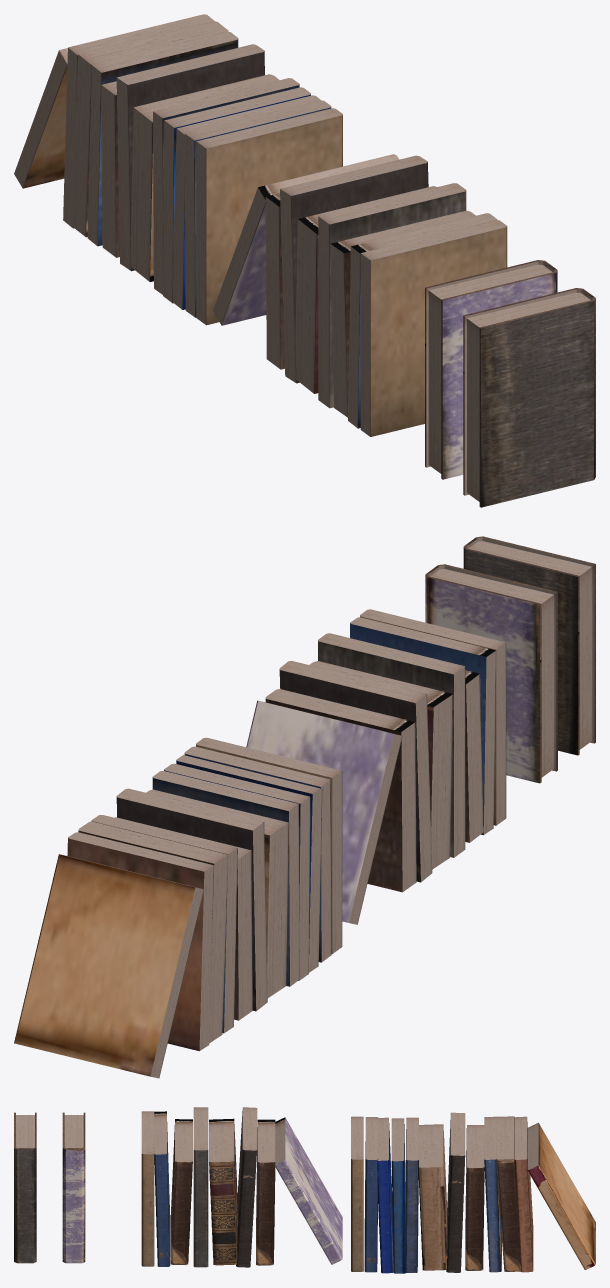
Rendered from books.fbx.
3 views of the same model, one above another, from view 1: azimuth 30°, elevation 25°; view 2: azimuth 150°, elevation 25°; view 3: azimuth 270°, elevation 25° (orthographic). The views are drawn at different scales.
Visible parts, largest first — view 1: books.001, books, book2, book; view 2: books.001, books, book, book2; view 3: books.001, books, book, book2.
Boxes of the visible parts, x1,y1,x2,y2 form: books.001: (14, 14, 342, 325); books: (213, 154, 507, 436); book2: (463, 288, 595, 507); book: (425, 260, 557, 479); books.001: (14, 737, 342, 1078); books: (246, 609, 506, 924); book: (425, 564, 557, 783); book2: (463, 536, 595, 755); books.001: (351, 1112, 595, 1273); books: (141, 1107, 342, 1267); book: (62, 1112, 85, 1263); book2: (14, 1112, 36, 1263).
Bounding box in the file's own units: 235 × 316 × 1346.
